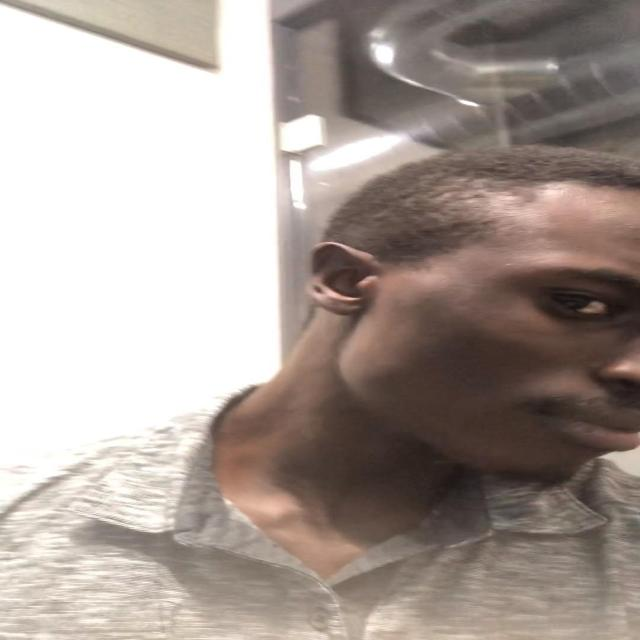face: (323, 218, 640, 486)
